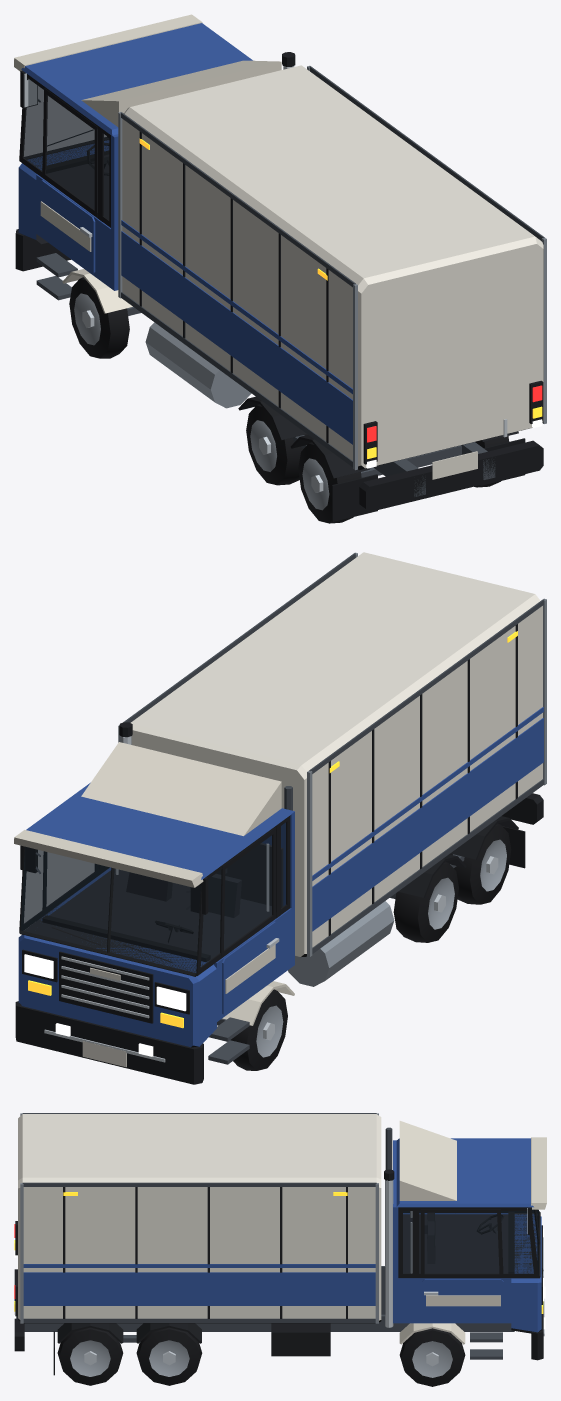
Rendered from truck.glb.
The picture shows the model from 3 angles, top to bottom: view 1: azimuth 30°, elevation 25°; view 2: azimuth 150°, elevation 25°; view 3: azimuth 270°, elevation 25°; orthographic projection. The views are drawn at different scales.
Visible parts, largest first — view 1: Body, DoorL, Wheel_FL, Wheel_ML, Wheel_RL; view 2: Body, DoorL, Wheel_ML, Wheel_RL, Wheel_FL, DoorR; view 3: Body, DoorR, Wheel_FR, Wheel_RR, Wheel_MR.
Boxes of the visible parts, x1,y1,x2,y2 form: Body: [14, 14, 546, 521]; DoorL: [20, 70, 97, 274]; Wheel_FL: [69, 277, 129, 358]; Wheel_ML: [246, 404, 307, 485]; Wheel_RL: [298, 442, 361, 523]; Body: [14, 552, 546, 1084]; DoorL: [186, 827, 279, 1015]; Wheel_ML: [393, 861, 458, 942]; Wheel_RL: [449, 823, 511, 904]; Wheel_FL: [230, 989, 287, 1070]; DoorR: [20, 845, 98, 909]; Body: [14, 1113, 546, 1375]; DoorR: [420, 1207, 531, 1322]; Wheel_FR: [399, 1328, 465, 1386]; Wheel_RR: [57, 1327, 123, 1385]; Wheel_MR: [136, 1327, 202, 1385].
Bounding box in the file's own units: 2.56 × 3.59 × 8.1.
